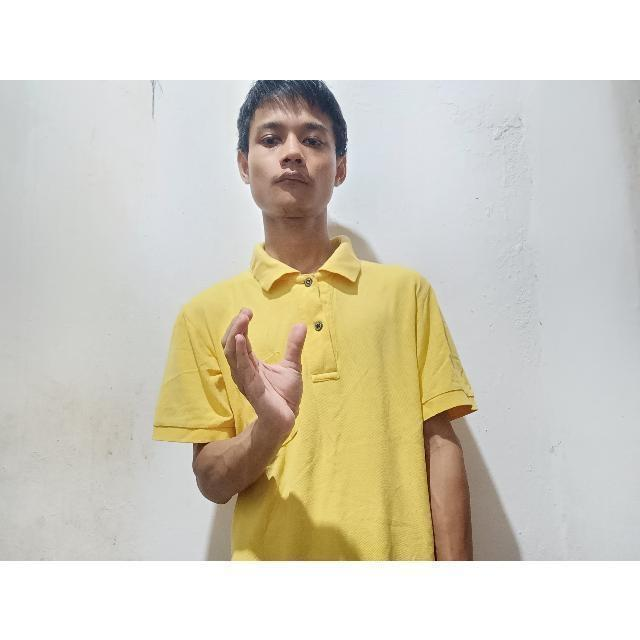U: (215, 304, 322, 399)
